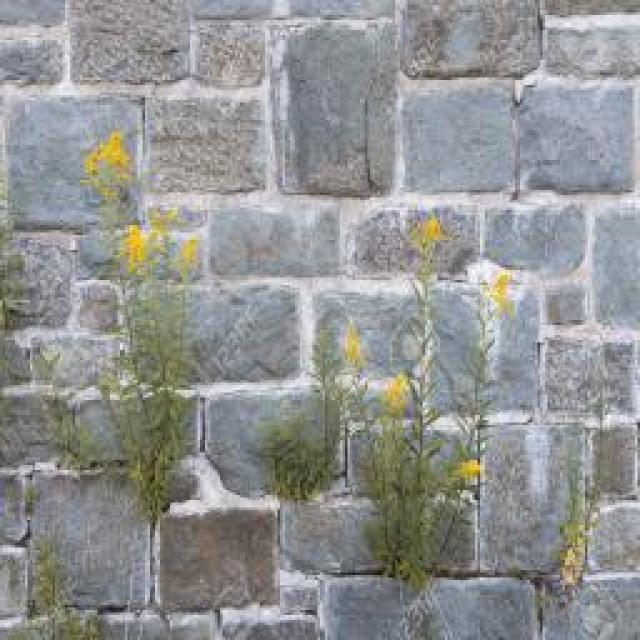crack: (5, 4, 636, 635), (272, 19, 402, 195), (5, 94, 143, 229), (180, 280, 314, 386), (516, 78, 639, 193), (199, 387, 320, 500), (204, 204, 344, 281), (348, 207, 480, 281), (480, 202, 589, 281), (2, 233, 87, 329), (584, 201, 640, 328), (506, 2, 537, 216), (538, 14, 639, 78), (228, 0, 406, 25), (0, 32, 70, 88), (69, 278, 129, 334), (185, 0, 202, 85)
dampness: (5, 470, 285, 616), (58, 0, 408, 90), (1, 249, 143, 464), (133, 4, 286, 199)
vegetation: (104, 203, 203, 401), (16, 532, 107, 640), (9, 469, 45, 630), (4, 472, 36, 538)
